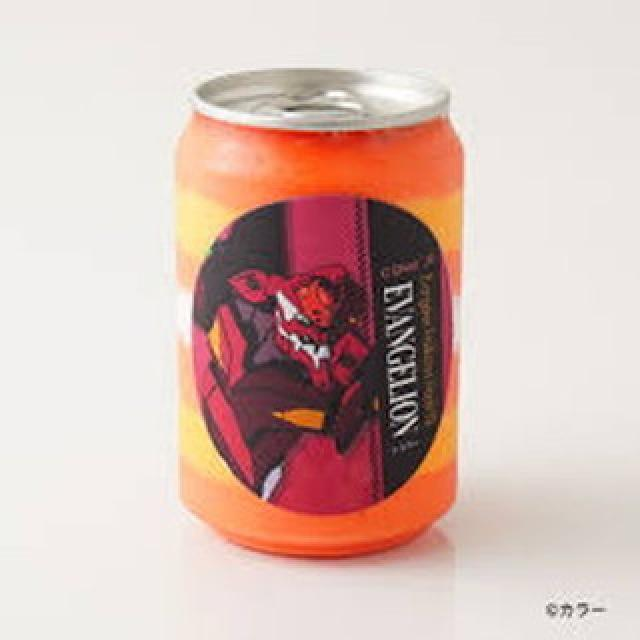can: (162, 62, 466, 557)
